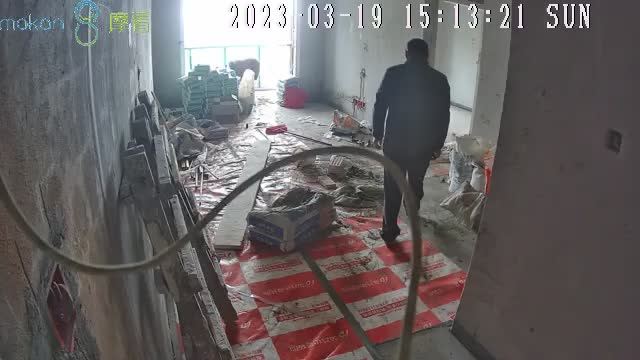people: (373, 39, 449, 243)
window: (183, 2, 295, 84)
